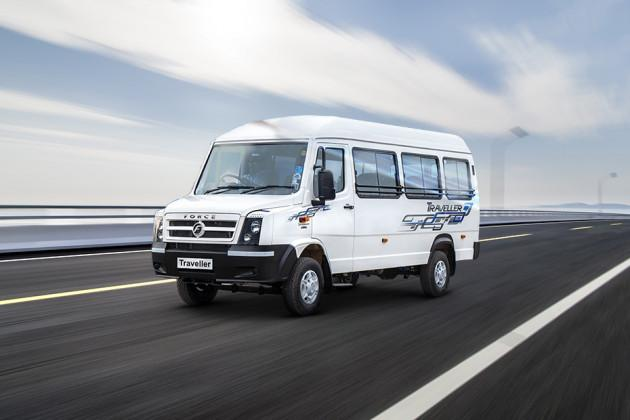van: (150, 114, 482, 316)
